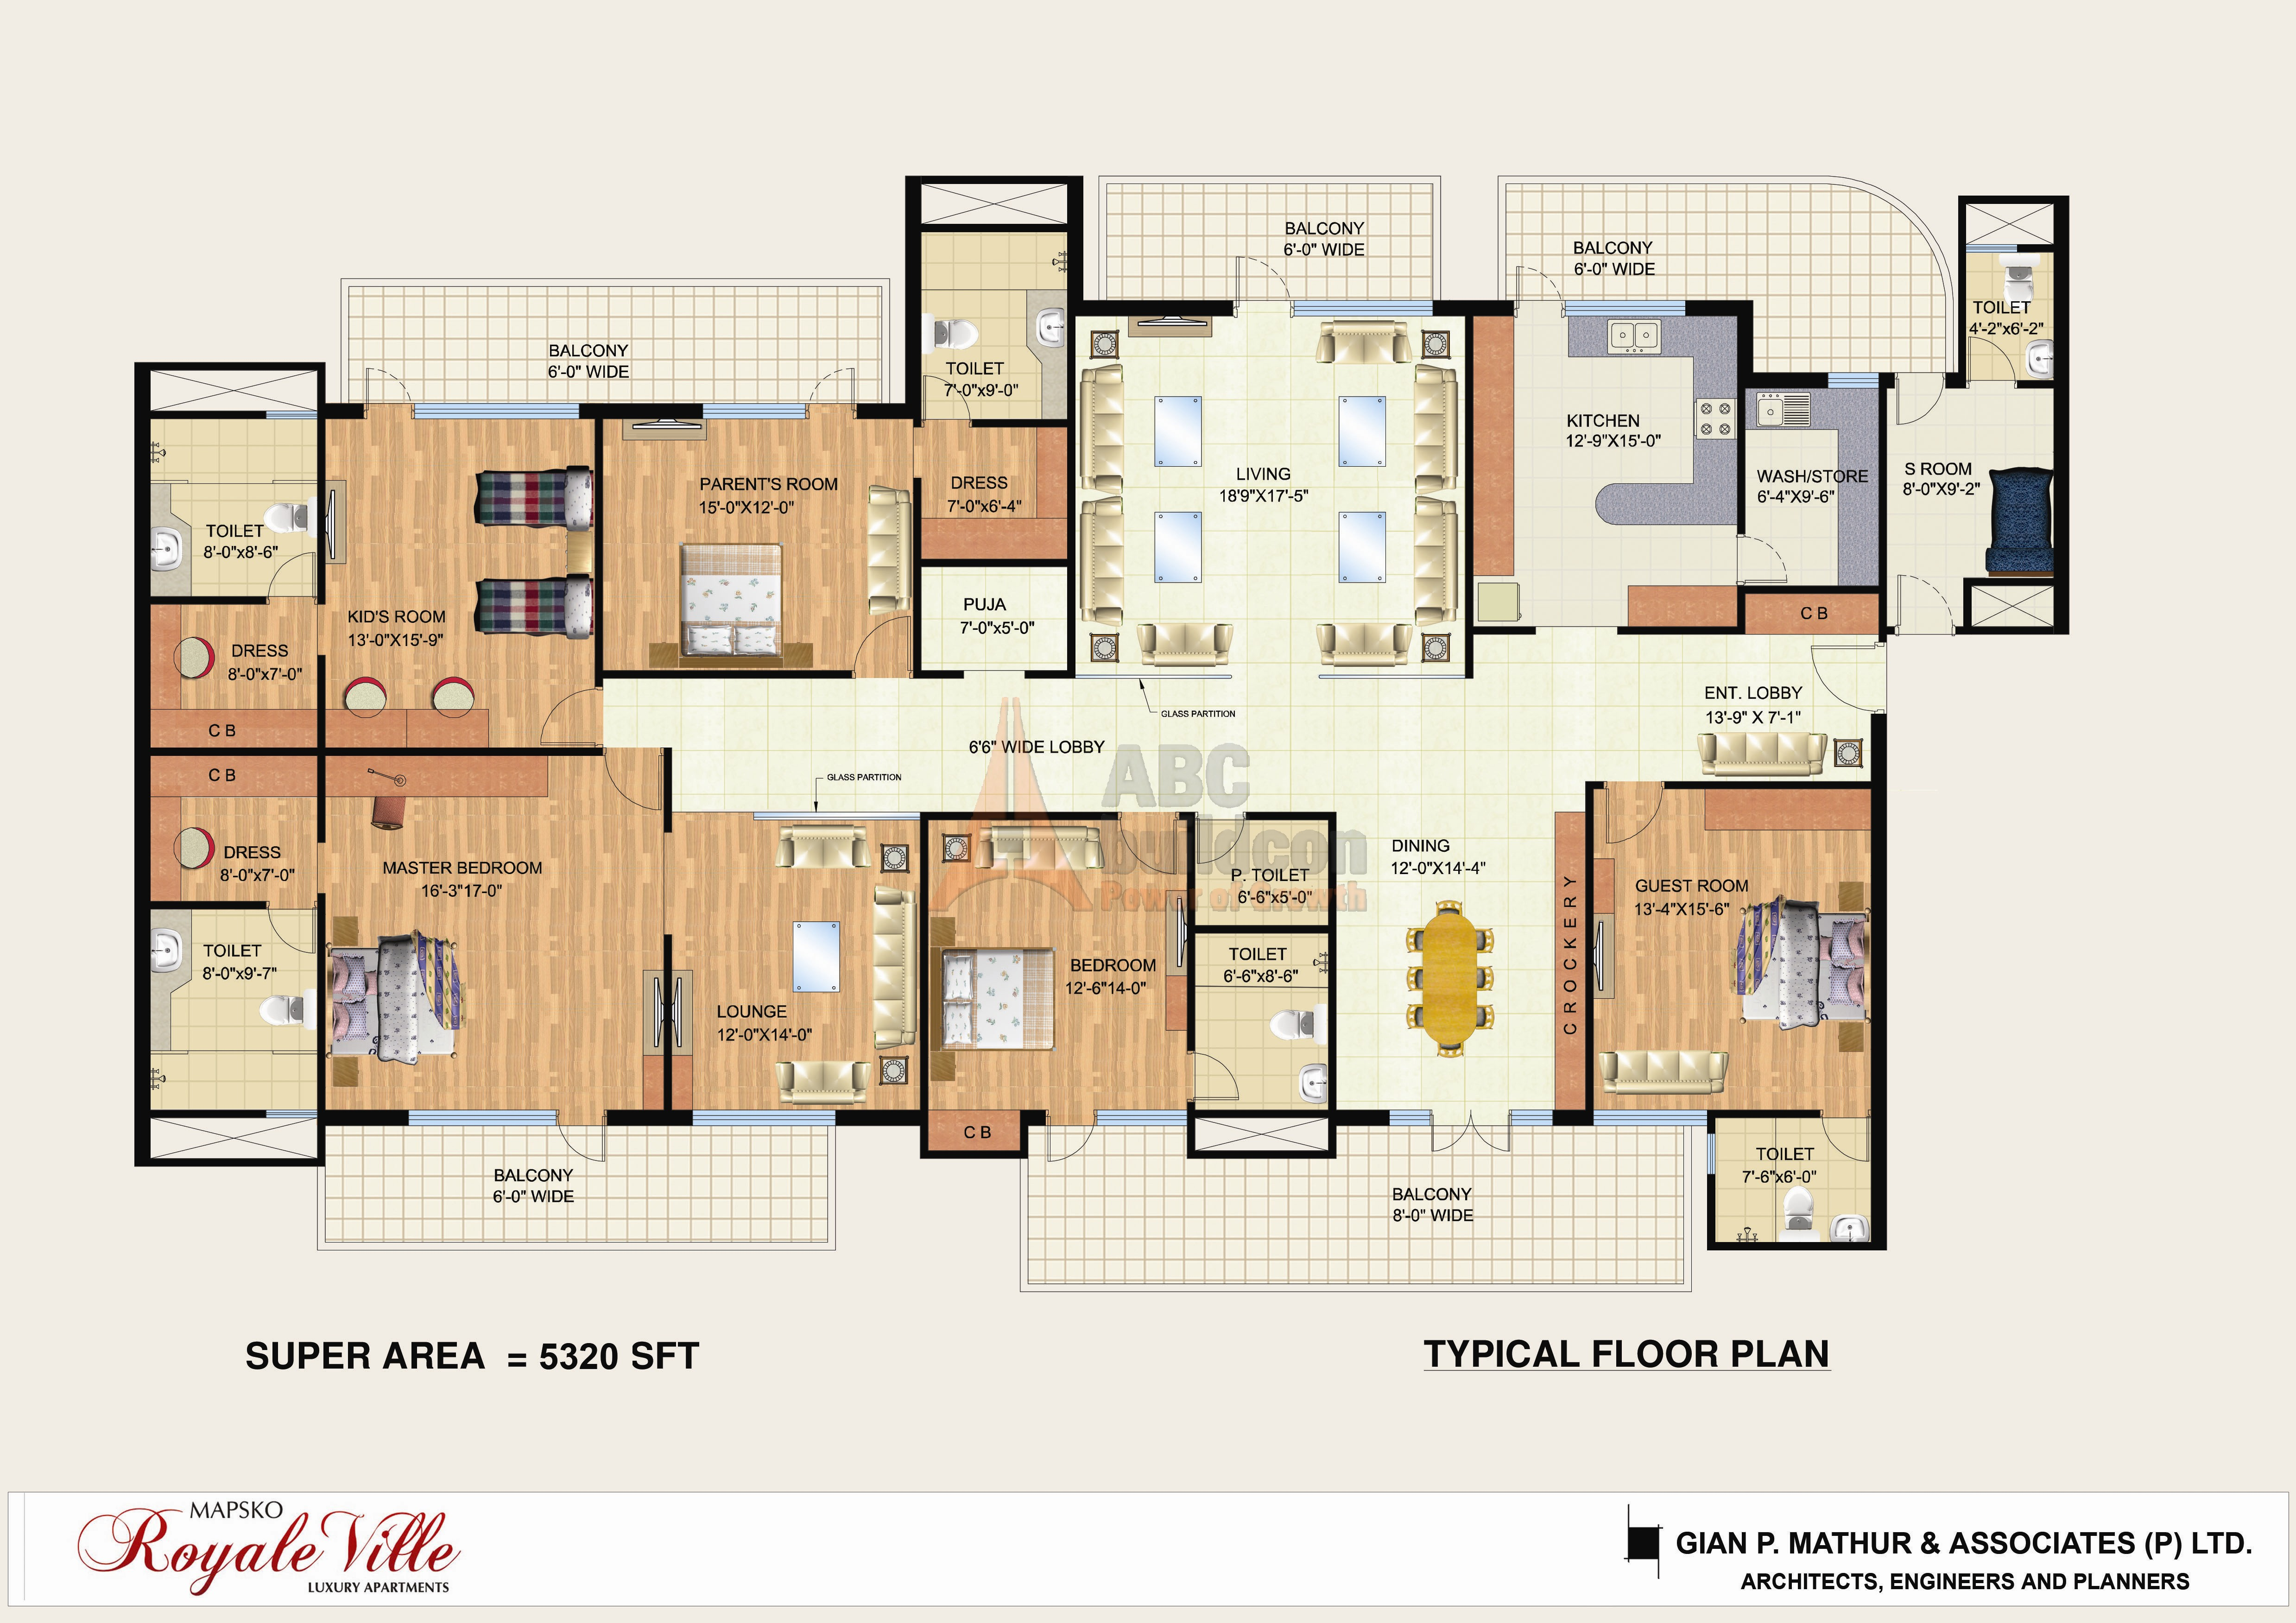window: (416, 399, 581, 425), (405, 1107, 556, 1129), (690, 1108, 839, 1131), (1290, 299, 1436, 320), (1562, 299, 1689, 321), (699, 400, 811, 425), (1590, 1108, 1711, 1129), (1095, 1107, 1188, 1129), (1824, 369, 1880, 392), (1387, 1107, 1432, 1129), (1508, 1107, 1553, 1129), (263, 1107, 319, 1122), (1704, 1131, 1718, 1179)
